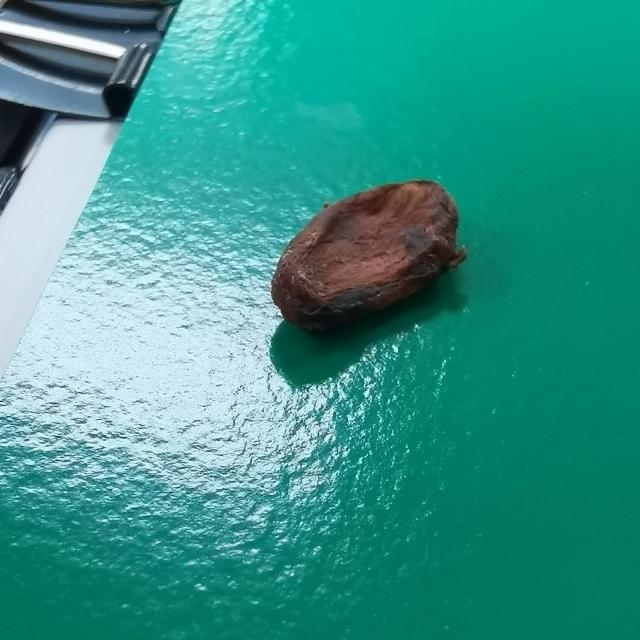Flat_cocoabeans: (231, 144, 554, 409)
